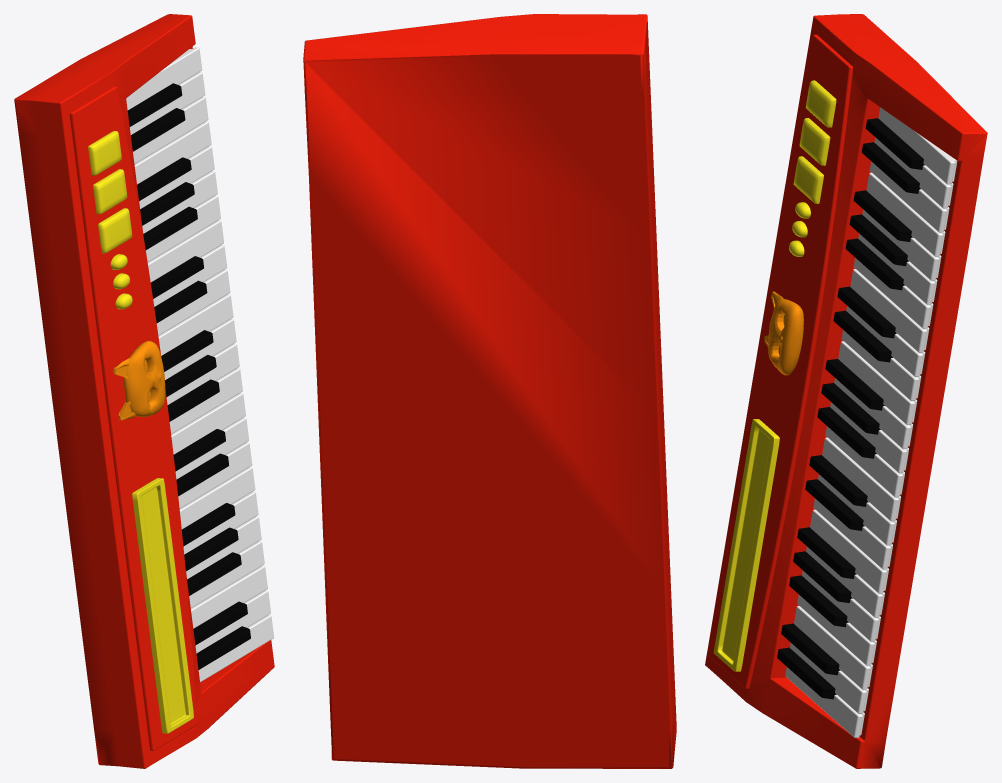
3 views of the same model, side by side, from view 1: azimuth 30°, elevation 25°; view 2: azimuth 150°, elevation 25°; view 3: azimuth 270°, elevation 25° (orthographic). The views are drawn at different scales.
Parts seen in each view (by area): view 1: 361, keyboards_white, keyboards_black, panel, buttons_square, neko_symbol, buttons_sphere; view 2: 361; view 3: 361, keyboards_white, keyboards_black, panel, buttons_square, neko_symbol, buttons_sphere.
Boxes of the visible parts, x1,y1,x2,y2 form: 361: (14,14,274,768); keyboards_white: (126,47,273,682); keyboards_black: (127,83,250,669); panel: (132,478,193,733); buttons_square: (88,131,132,253); neko_symbol: (113,341,165,420); buttons_sphere: (110,254,132,309); 361: (303,14,676,768); 361: (705,14,987,768); keyboards_white: (785,107,957,737); keyboards_black: (777,118,925,699); panel: (713,419,779,671); buttons_square: (793,80,836,203); neko_symbol: (764,291,803,375); buttons_sphere: (789,202,810,256).
Bounding box in the file's own units: 42.27 × 40.22 × 101.
